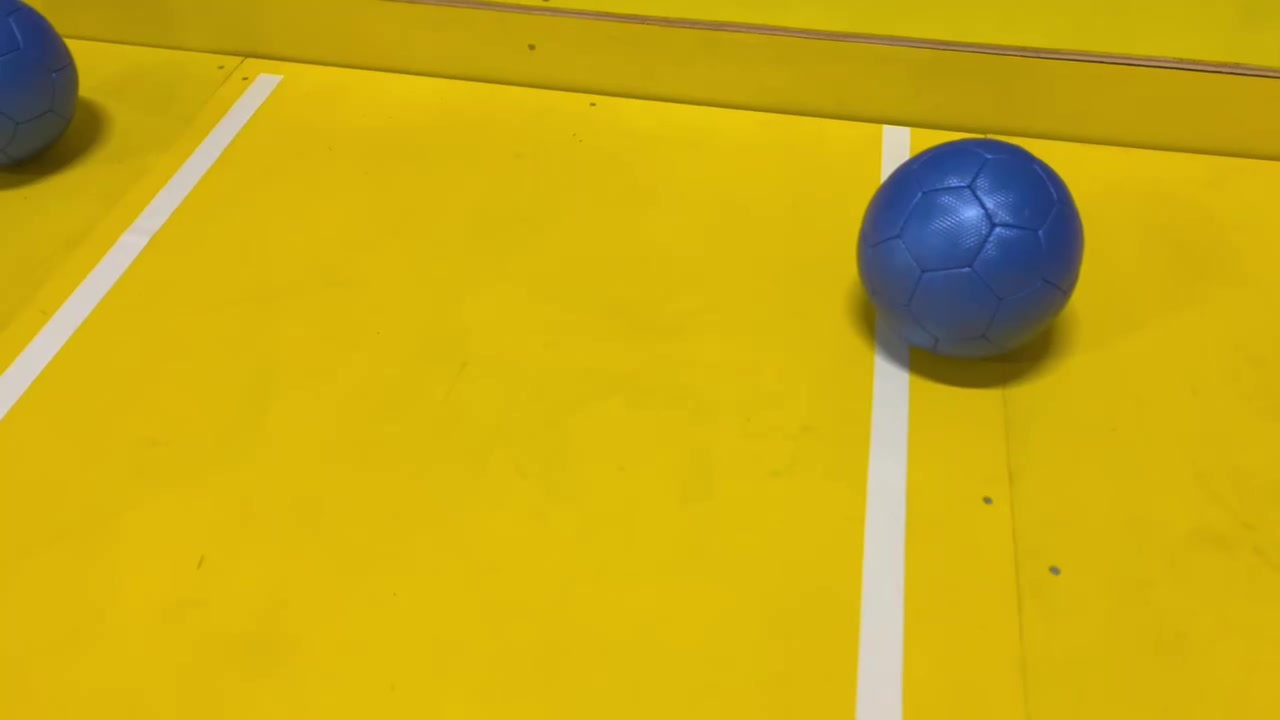blue: (840, 132, 1087, 369), (0, 0, 91, 171)
